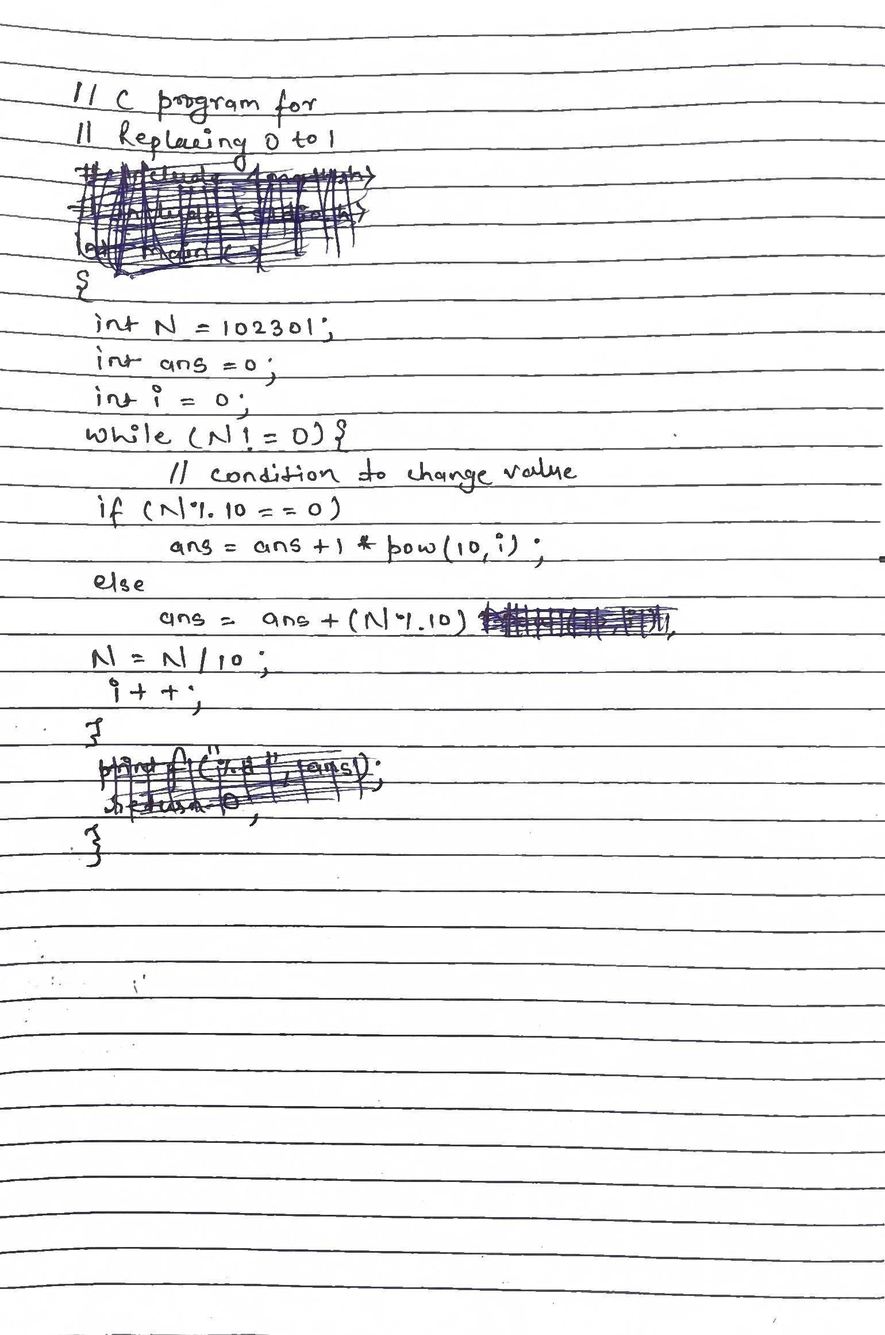cuttings: (66, 158, 377, 281), (96, 744, 386, 825), (477, 599, 680, 643)
